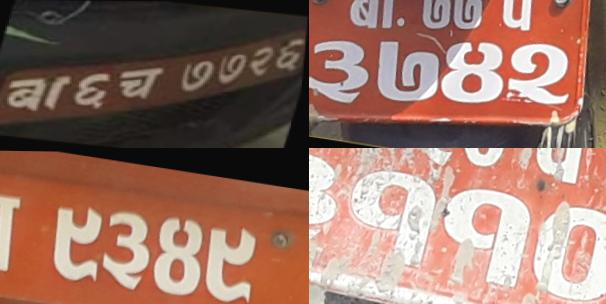0: (344, 0, 401, 32)
1: (503, 37, 582, 108)
2: (246, 46, 274, 76)
3: (432, 181, 539, 291), (340, 163, 444, 270), (96, 201, 163, 294)
4: (143, 205, 215, 304)
5: (439, 36, 513, 109)
6: (70, 70, 119, 112), (272, 36, 306, 74)
7: (369, 37, 448, 109), (447, 0, 489, 33), (177, 58, 217, 92), (415, 0, 455, 32), (215, 52, 250, 85)
8: (524, 148, 595, 186), (494, 0, 541, 33)
9: (42, 194, 114, 289), (196, 214, 272, 304)
ba: (309, 35, 376, 106), (309, 148, 344, 246), (4, 71, 70, 113)
cha: (528, 199, 606, 304), (0, 182, 32, 290), (110, 62, 164, 100), (459, 148, 510, 167)
